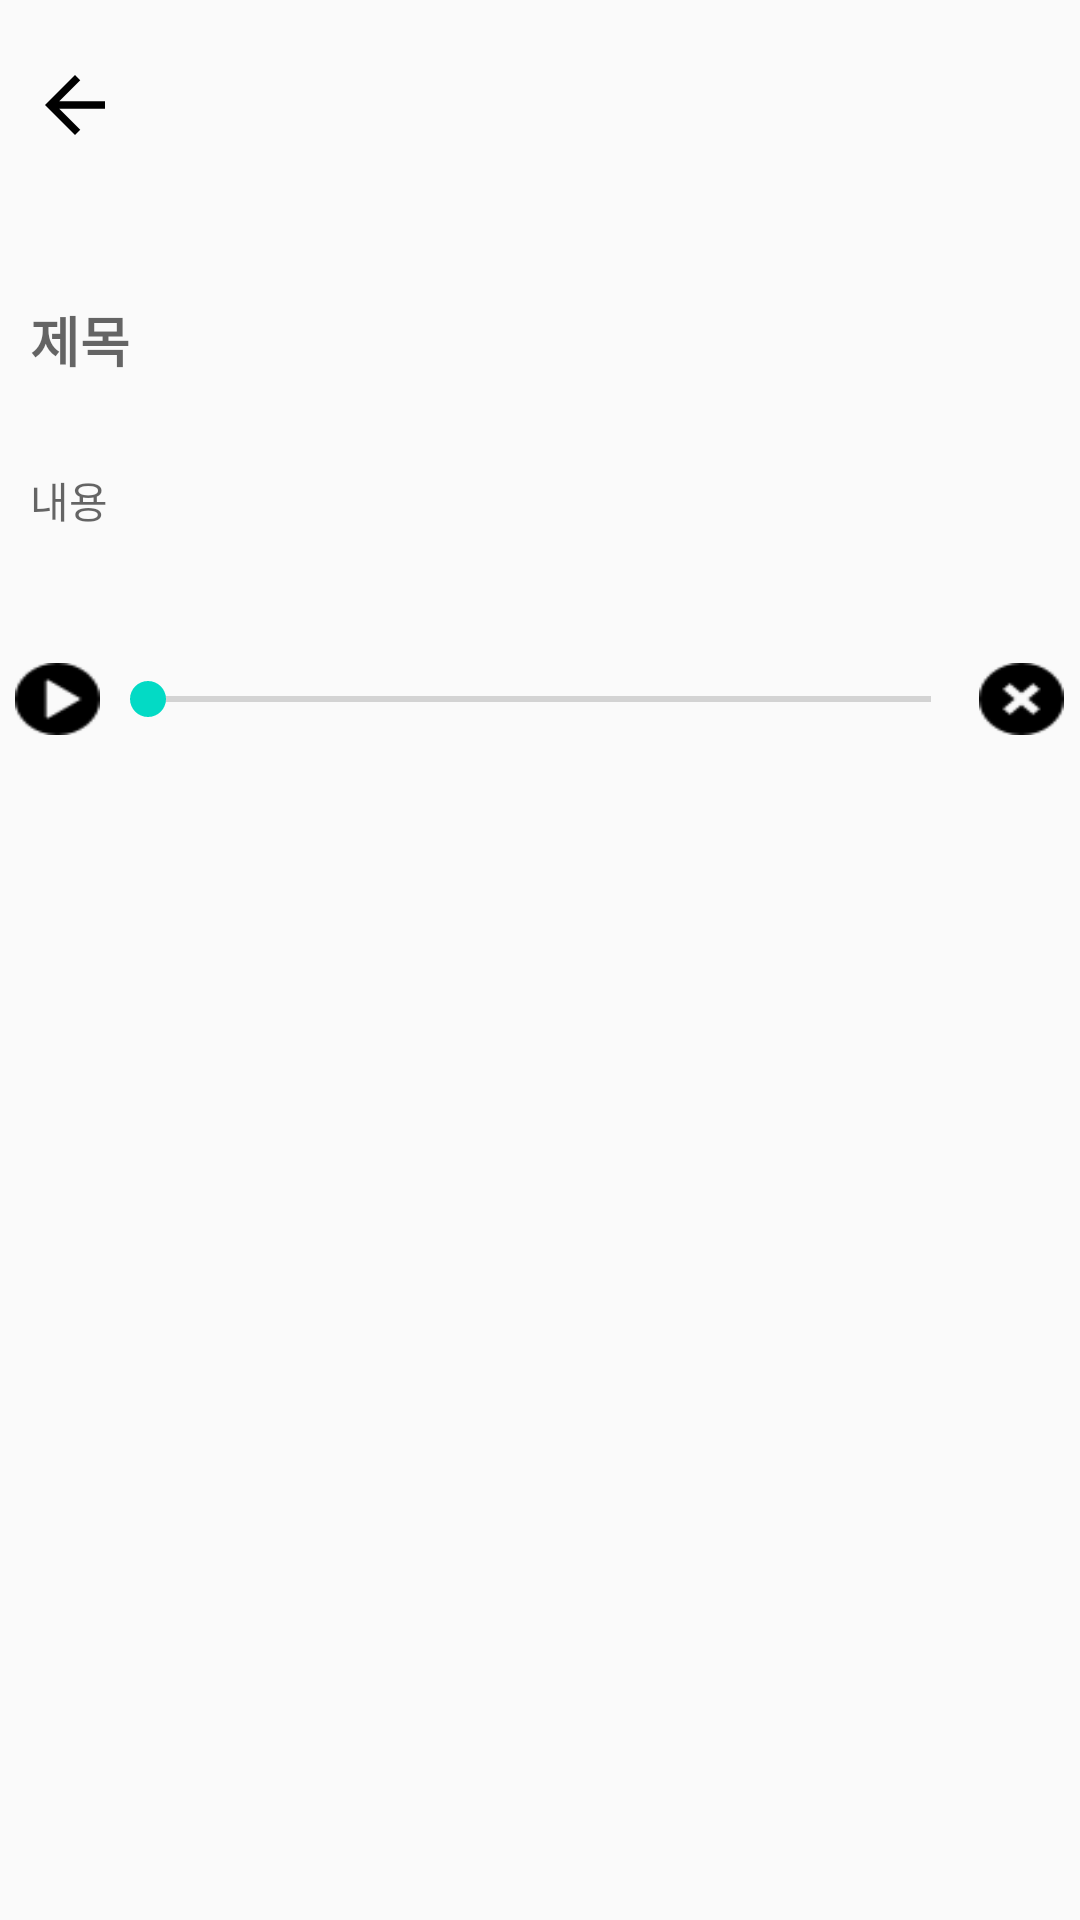

Icon click points for this 1080x1920 phone screenshot, format [x,y]:
delete: [1021,699]
